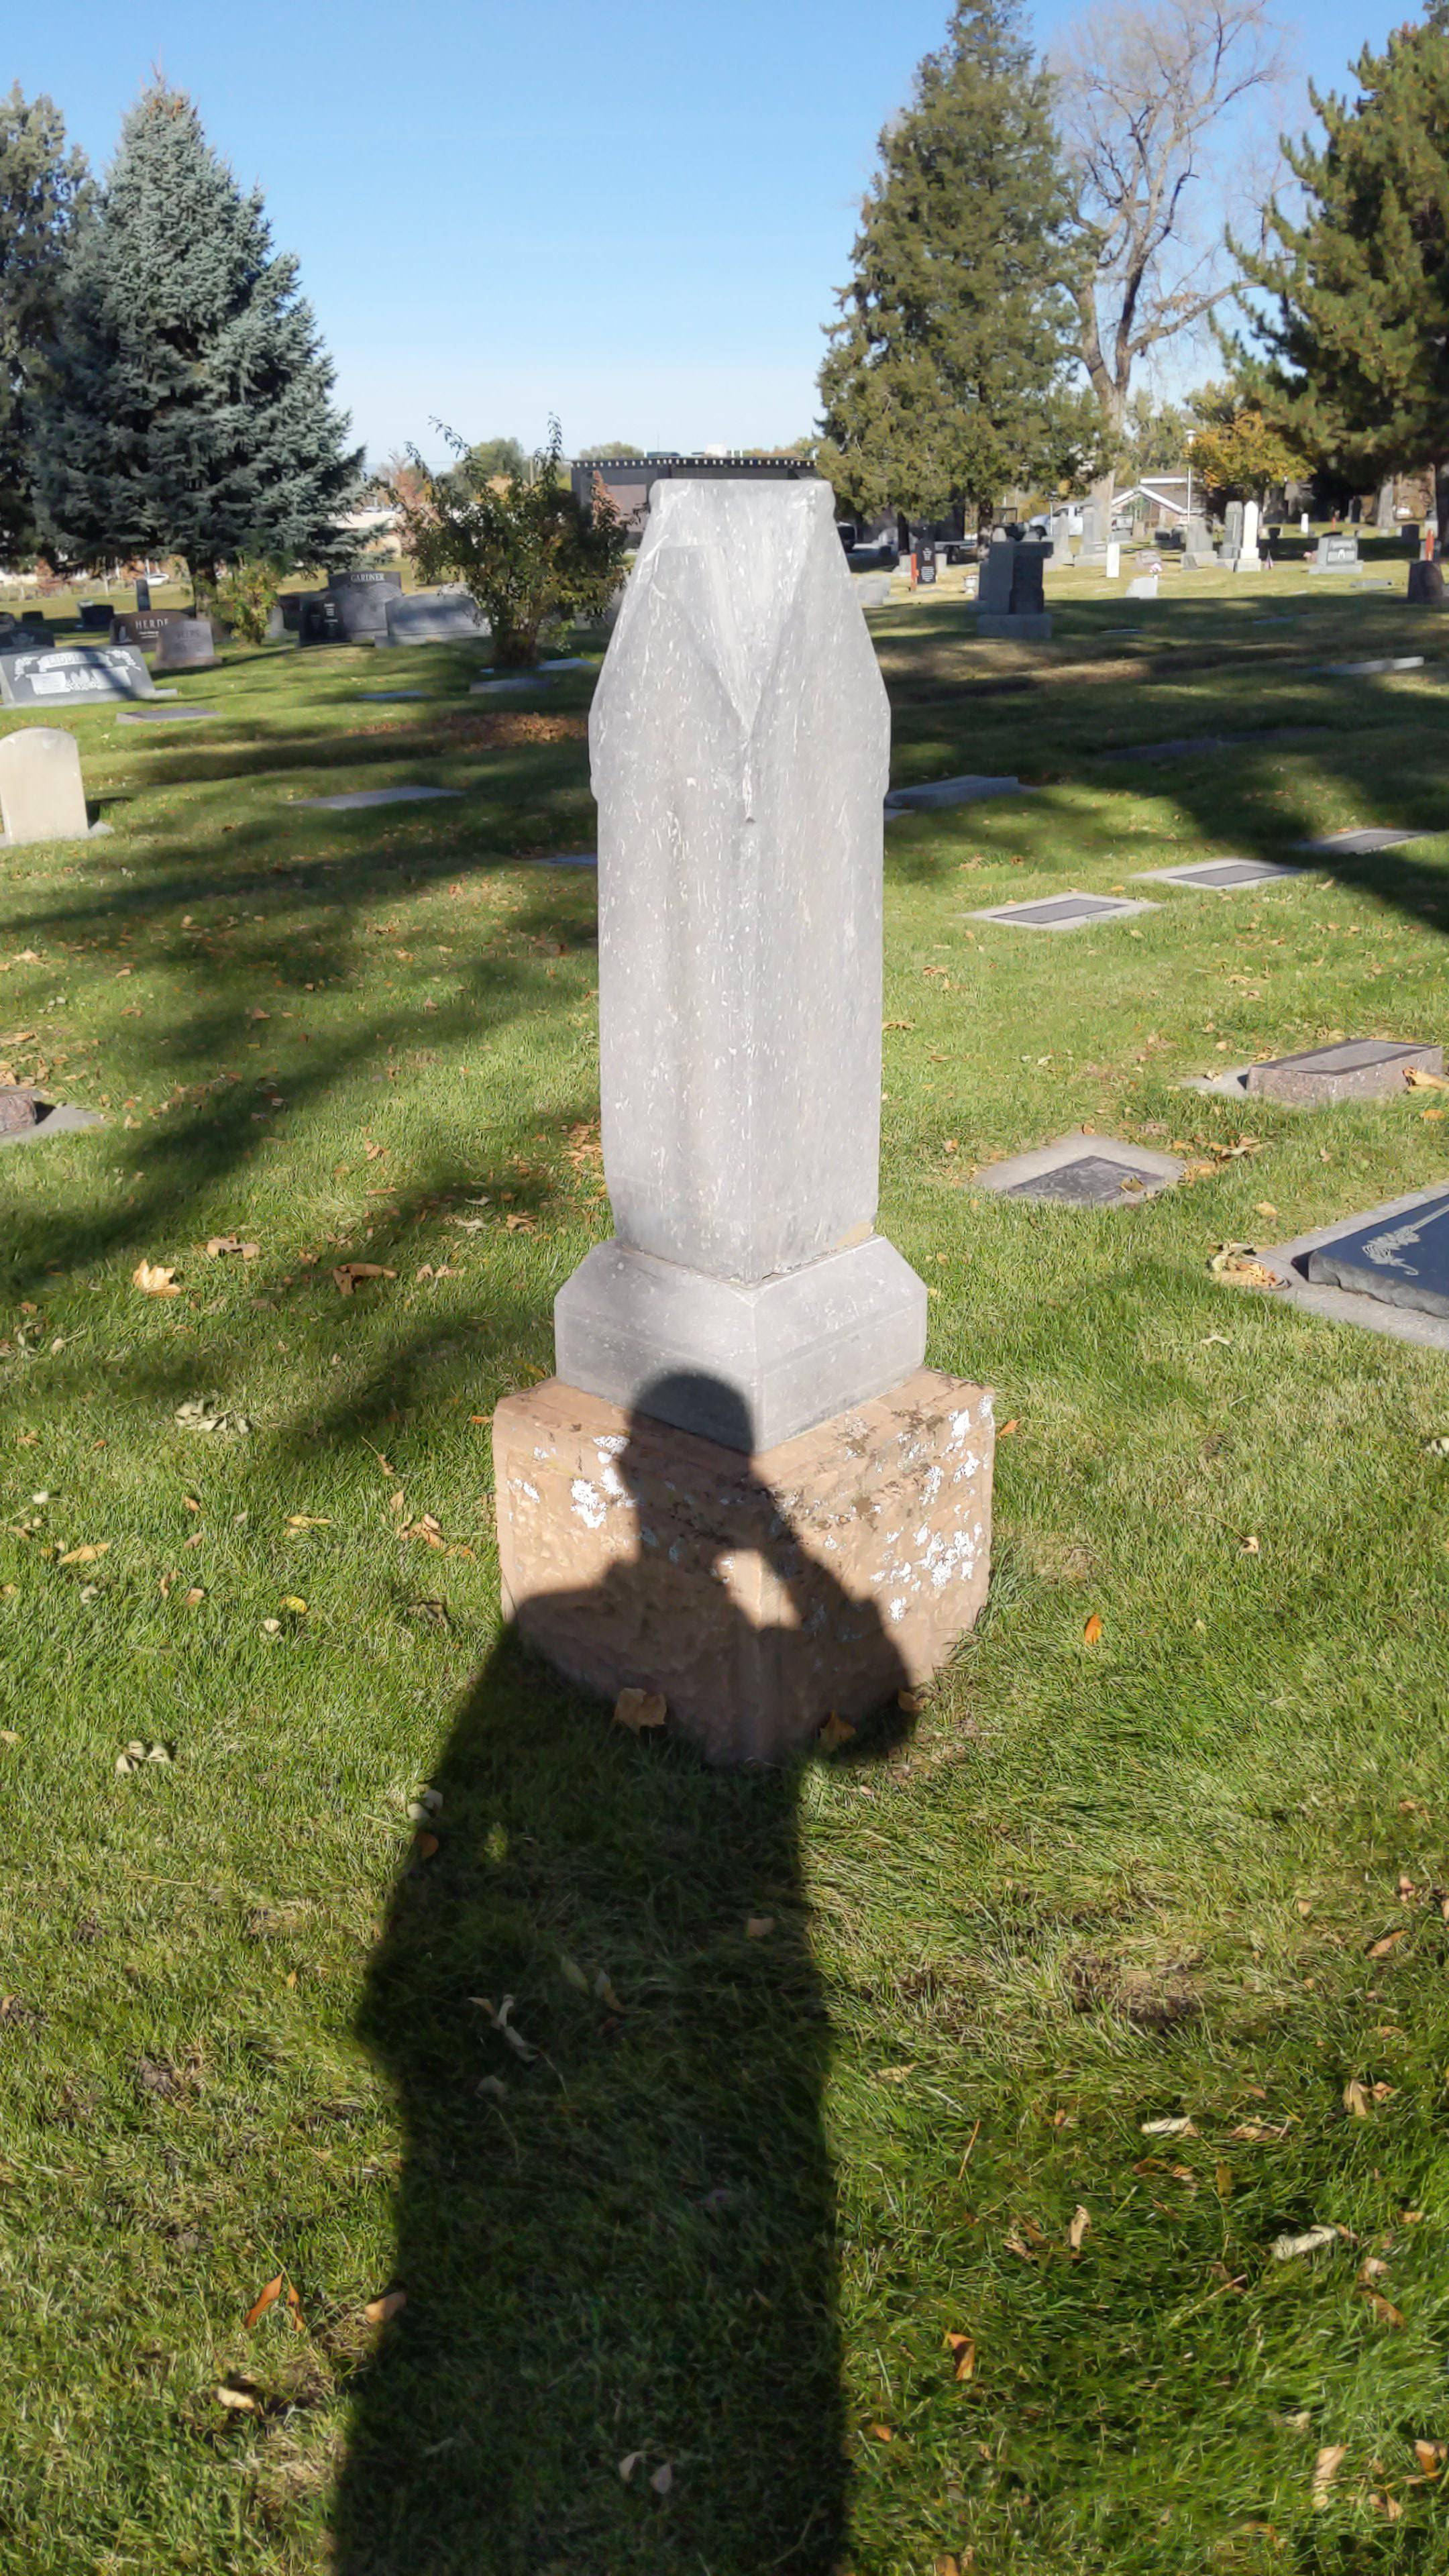obelisk: (547, 469, 934, 1445)
